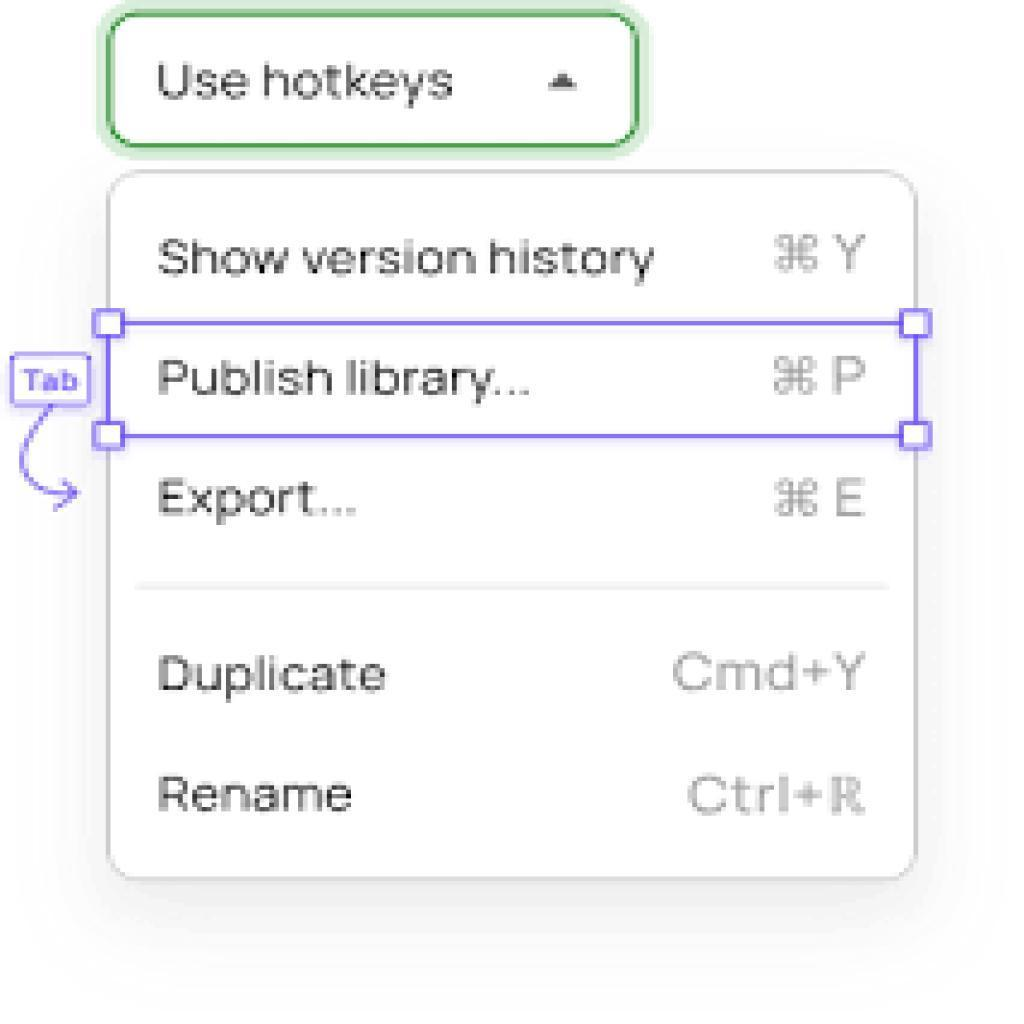dropdown: (96, 1, 652, 164)
input: (106, 321, 921, 439)
